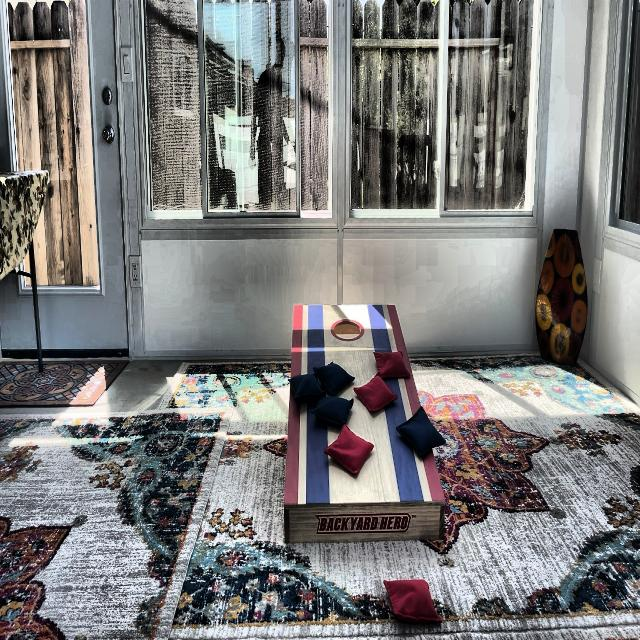blue-bean-bag: (395, 406, 447, 456), (311, 394, 354, 428), (314, 362, 355, 394), (288, 372, 324, 400)
board: (290, 304, 411, 500)
hole: (330, 317, 364, 342)
red-bean-bag: (383, 577, 441, 626), (323, 425, 375, 478), (354, 375, 397, 412), (373, 349, 409, 378)
